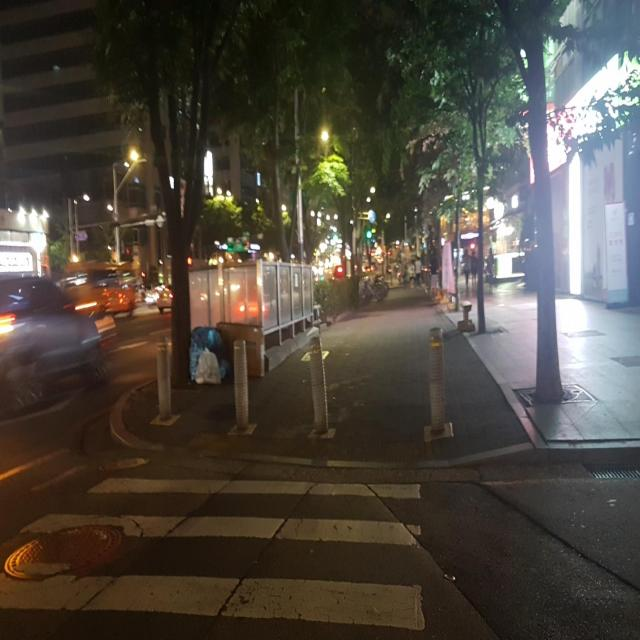횡단보도: (2, 473, 429, 634)
